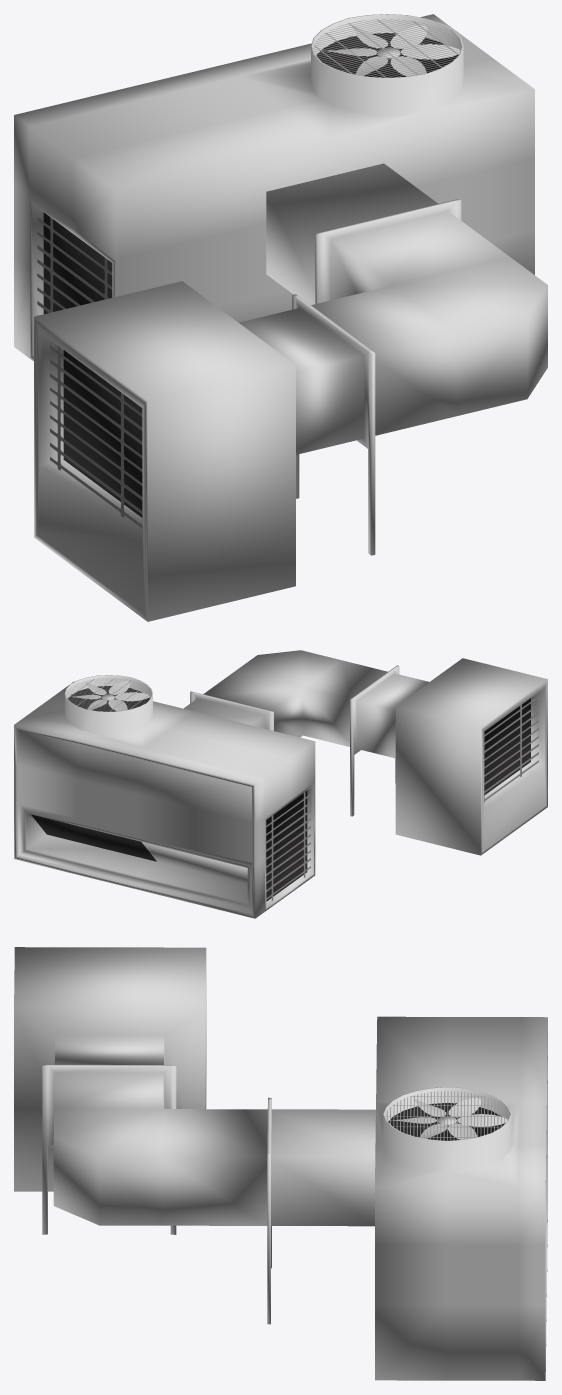
The model's file is Rooftop Vents.007.glb.
3 renders of one model, top to bottom at view 1: azimuth 30°, elevation 25°; view 2: azimuth 150°, elevation 25°; view 3: azimuth 270°, elevation 25°, orthographic. The views are drawn at different scales.
Parts seen in each view (by area): view 1: Rooftop Vents.007; view 2: Rooftop Vents.007; view 3: Rooftop Vents.007.
Boxes of the visible parts, x1,y1,x2,y2 form: Rooftop Vents.007: (14,14,547,621); Rooftop Vents.007: (14,650,547,918); Rooftop Vents.007: (14,947,547,1380).
Bounding box in the file's own units: 4.65 × 1.98 × 4.27.
3 materials, 1 textured.
